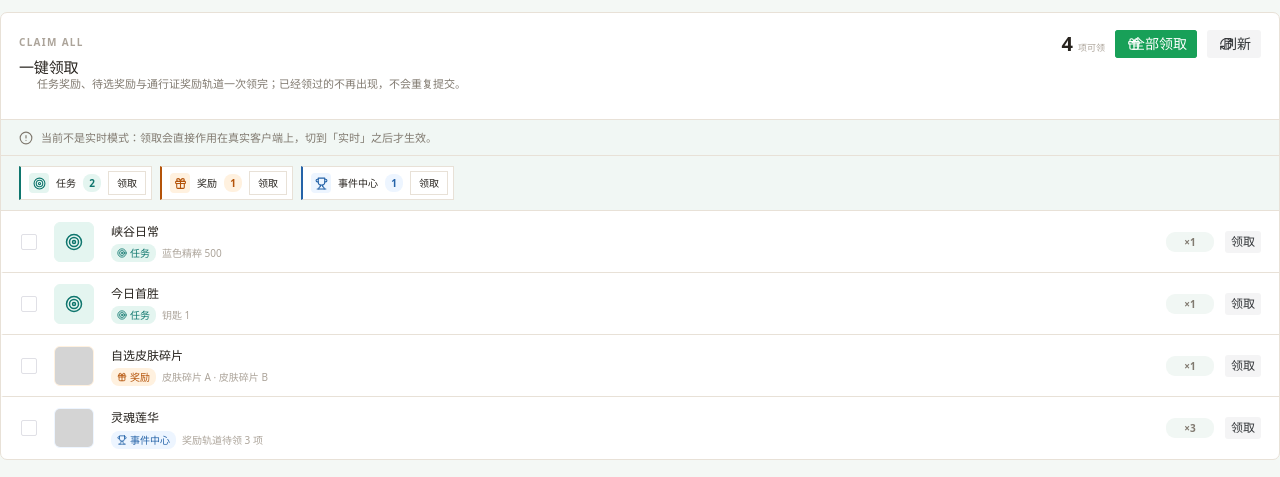
ClaimCenter › 列出可领项，领取之后该条从清单里消失
Expected: the list item with class "claim-item" showing "峡谷日常 任务 蓝色精粹 500 ×1 领取" is shown, [1,212,1279,274]
Step 1. Click the button with class "claim-item__claim" in the row of "峡谷日常" → [1243, 242], box [1225,231,1261,253]
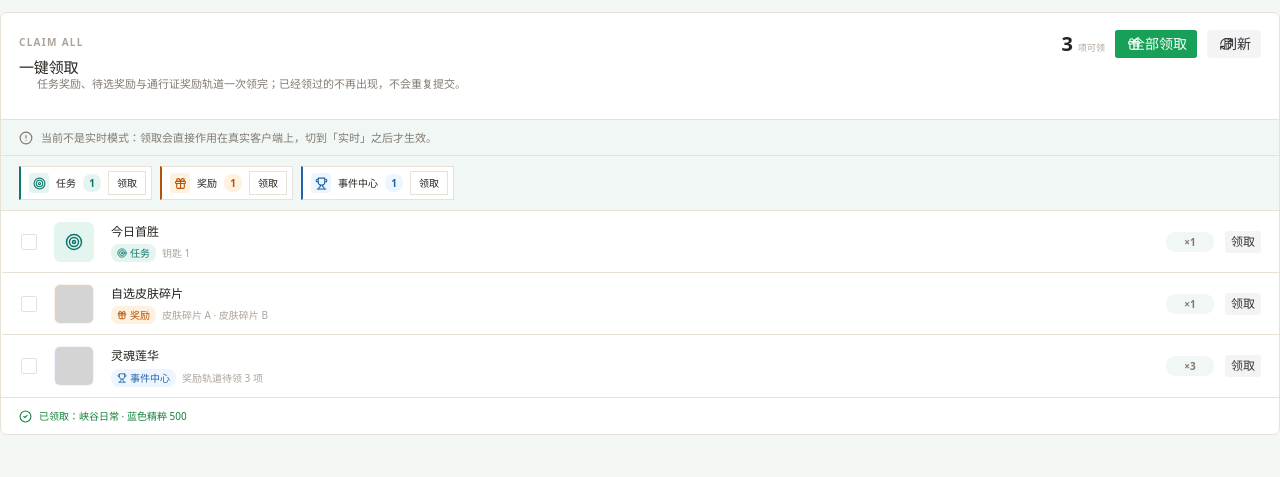
Expected: the number of list items with class "claim-item" is 3, [1,212,1279,274]; [1,274,1279,336]; [1,336,1279,398]
Expected: the list with class "claim-results" shows "已领取", [39,410,187,424]
